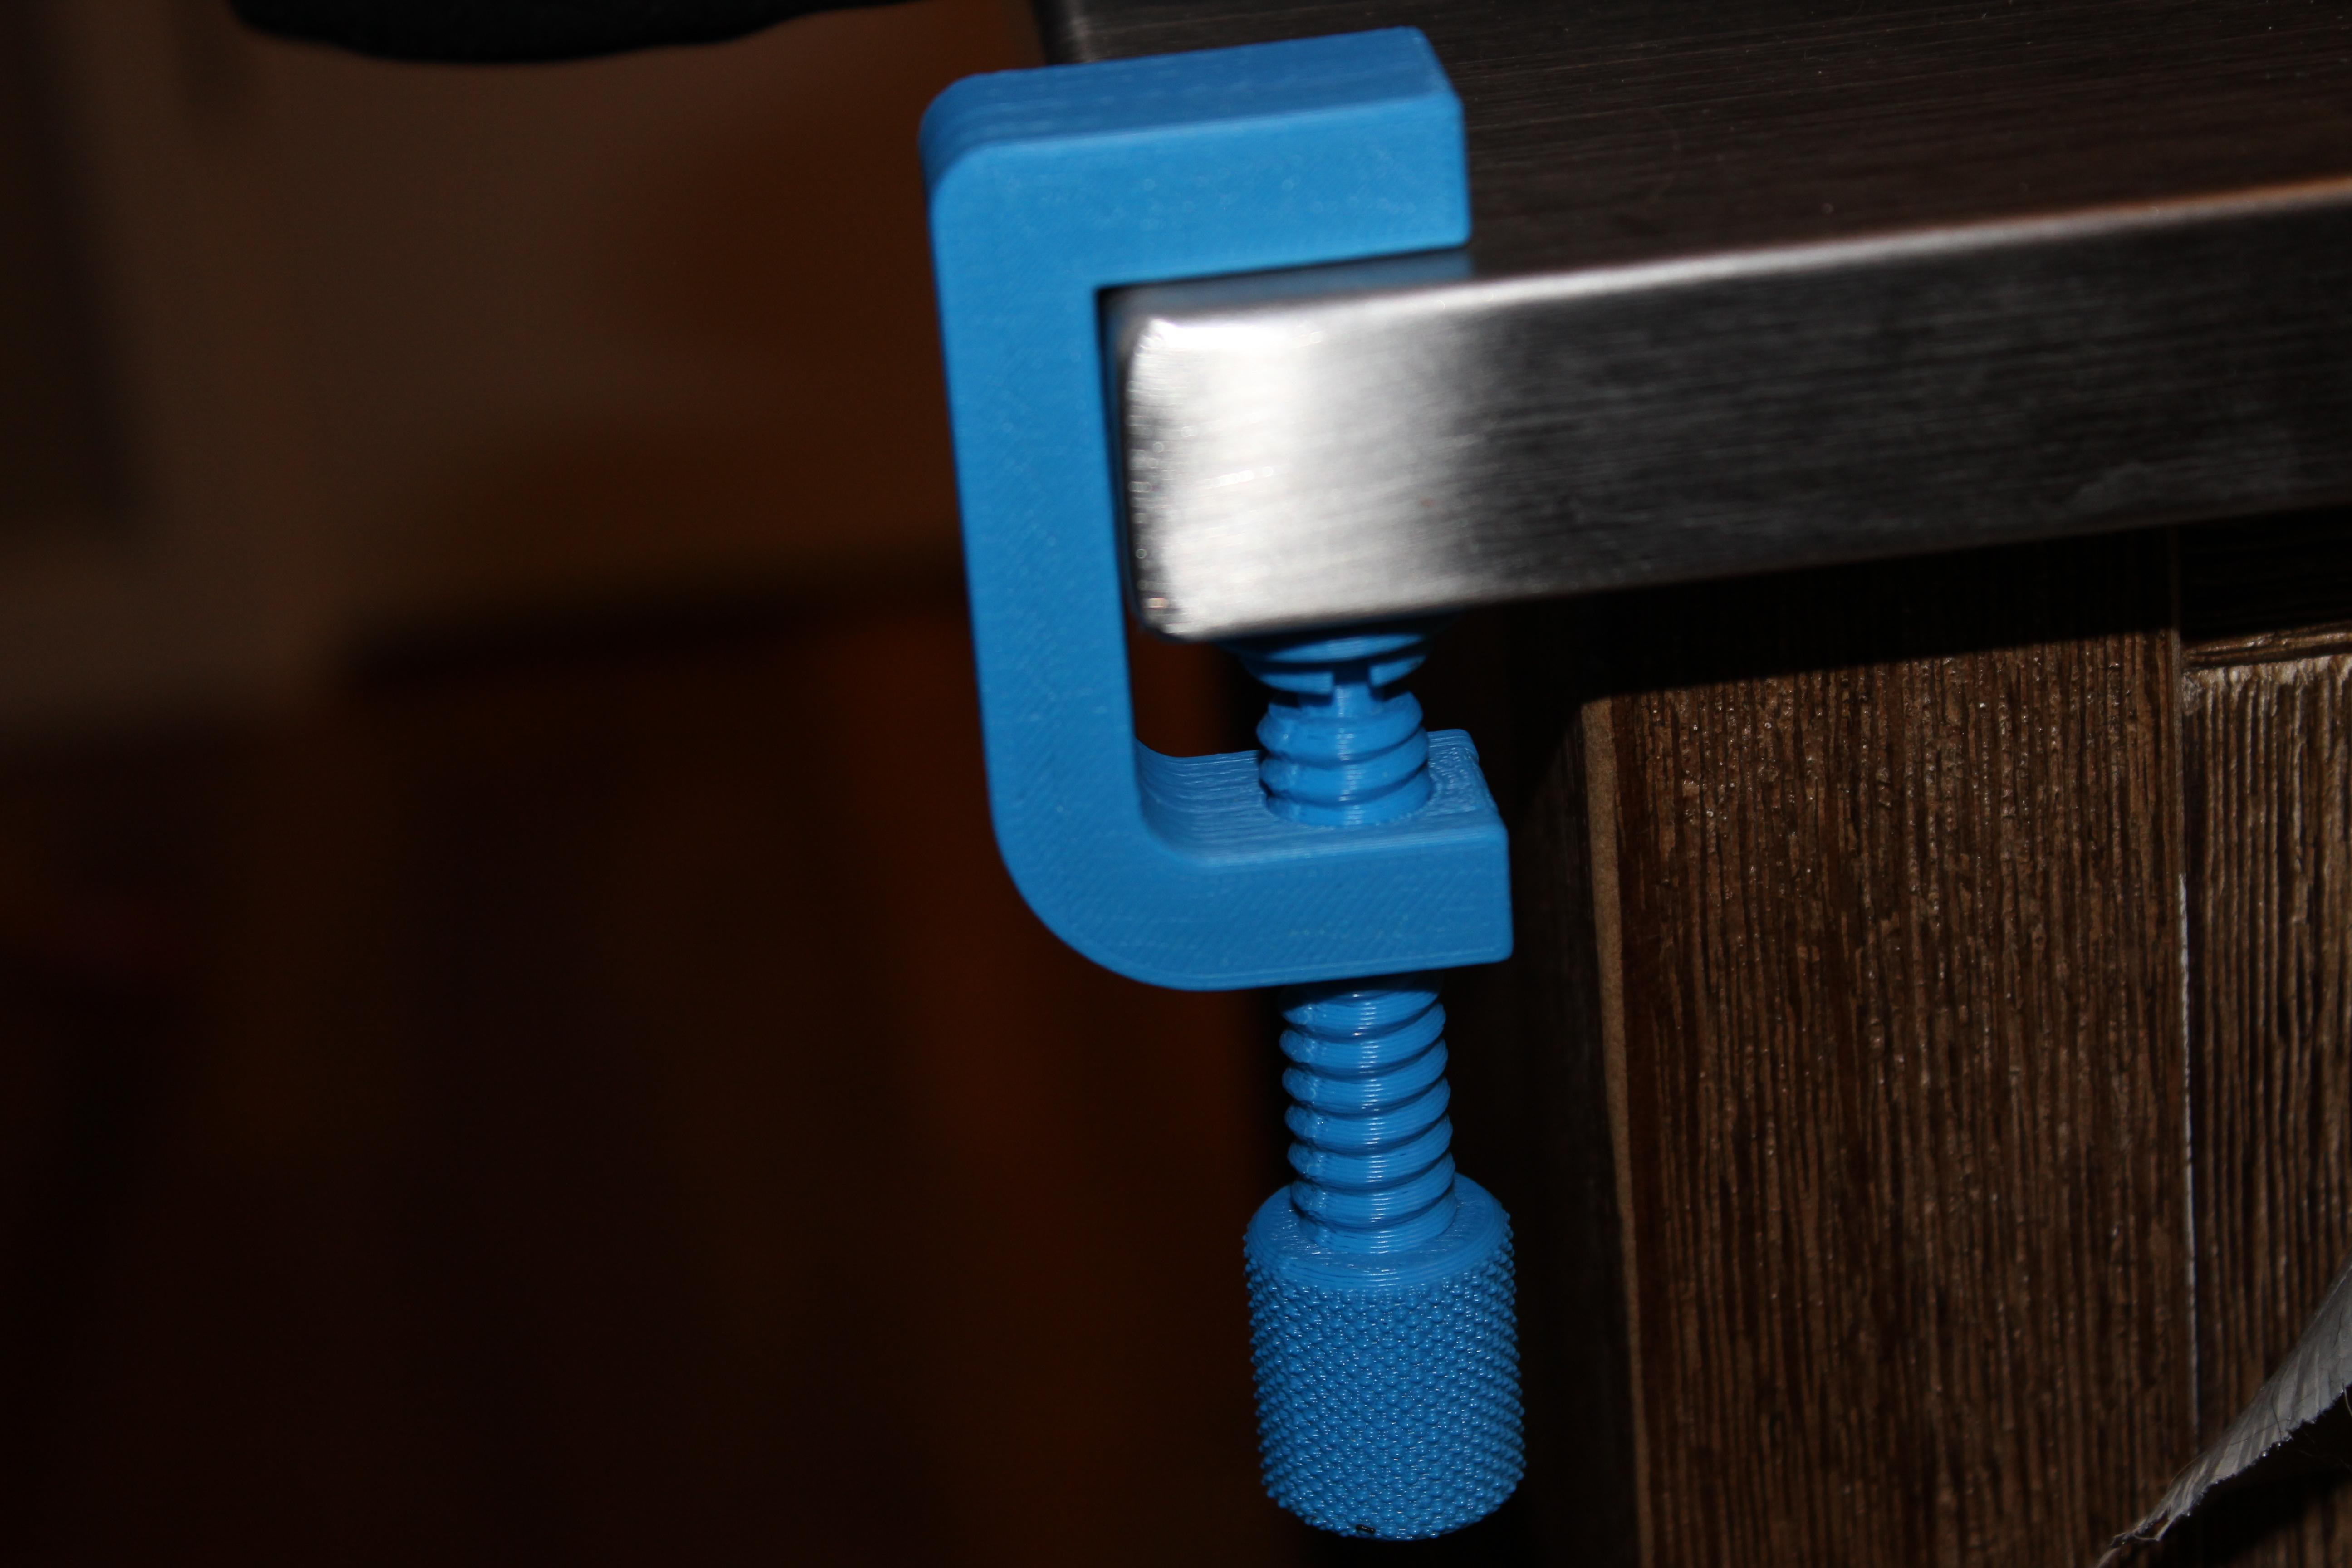gClamp: (863, 23, 1664, 1549)
